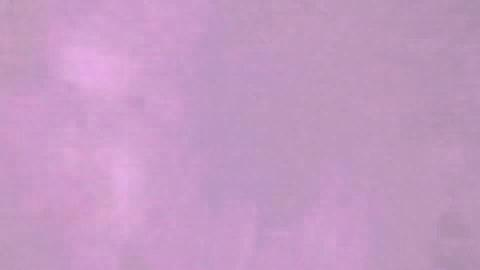tomato: (185, 124, 394, 268), (2, 129, 185, 268)
